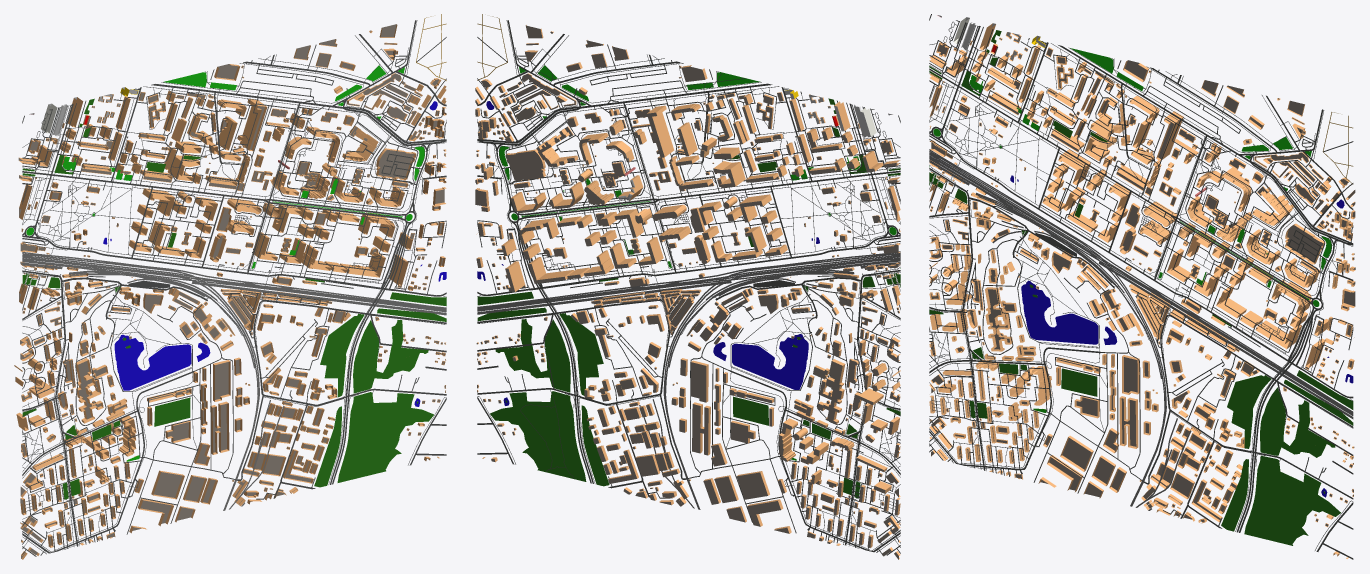
File: tile.009.fbx
3 renders of one model, left to right at view 1: azimuth 30°, elevation 25°; view 2: azimuth 150°, elevation 25°; view 3: azimuth 330°, elevation 25°, orthographic.
Visible parts, largest first — view 1: tile.009; view 2: tile.009; view 3: tile.009.
Part boxes in pixels (x1,y1,x2,y2): tile.009: [14, 14, 446, 559]; tile.009: [475, 14, 900, 559]; tile.009: [929, 14, 1355, 559].
Bounding box in the file's own units: 400 × 400 × 17.67.
